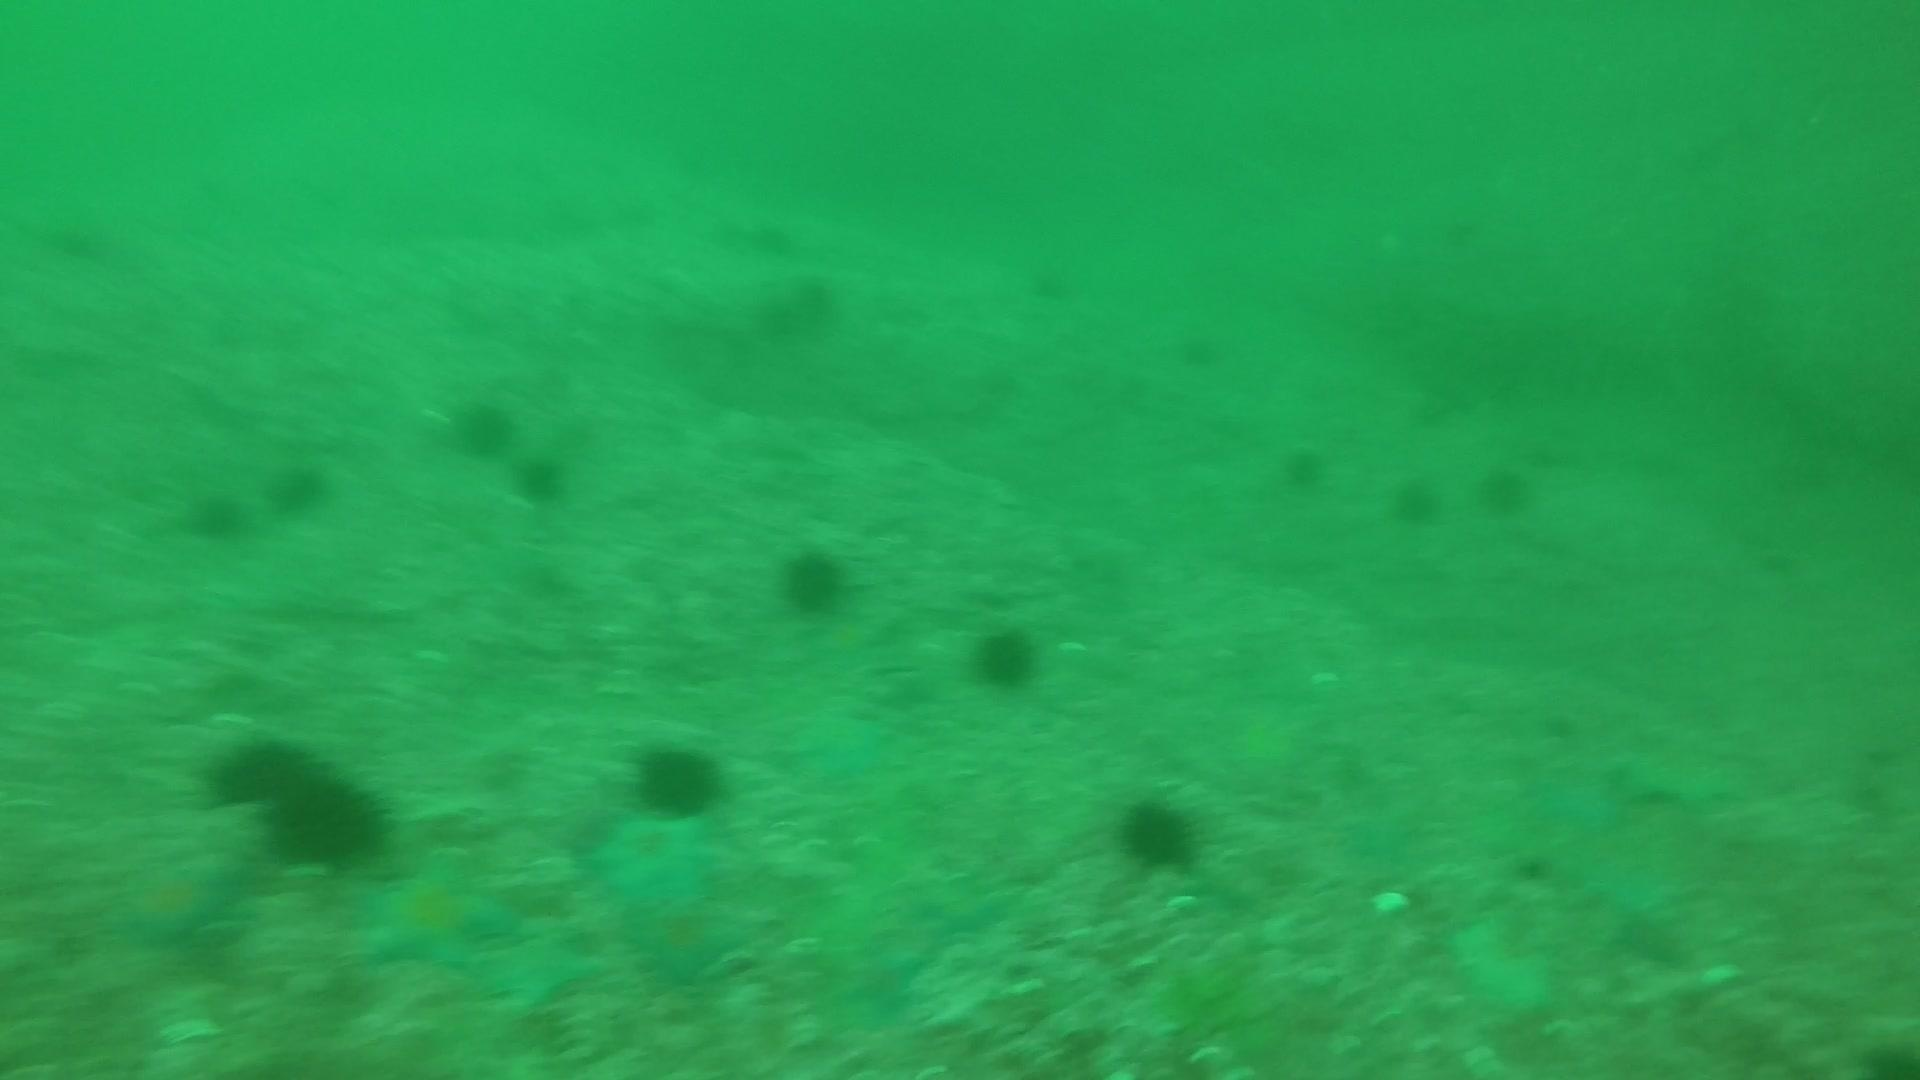echinus: (258, 760, 392, 870), (204, 731, 322, 814), (628, 735, 728, 822), (1112, 791, 1207, 876), (773, 541, 857, 620), (965, 618, 1044, 695), (443, 392, 521, 462), (264, 454, 336, 520), (181, 485, 252, 545), (1473, 459, 1539, 520), (510, 448, 574, 508), (1385, 472, 1445, 530), (1274, 440, 1332, 495), (781, 272, 833, 319), (1427, 214, 1480, 261), (1164, 324, 1218, 371), (753, 297, 804, 344), (744, 216, 796, 262), (1025, 262, 1077, 309)
starfish: (351, 858, 525, 975), (109, 851, 244, 951), (588, 814, 720, 910), (1445, 911, 1560, 1018), (628, 898, 760, 989), (473, 928, 607, 1011), (1611, 733, 1749, 814), (1520, 754, 1634, 836), (786, 704, 897, 785)
